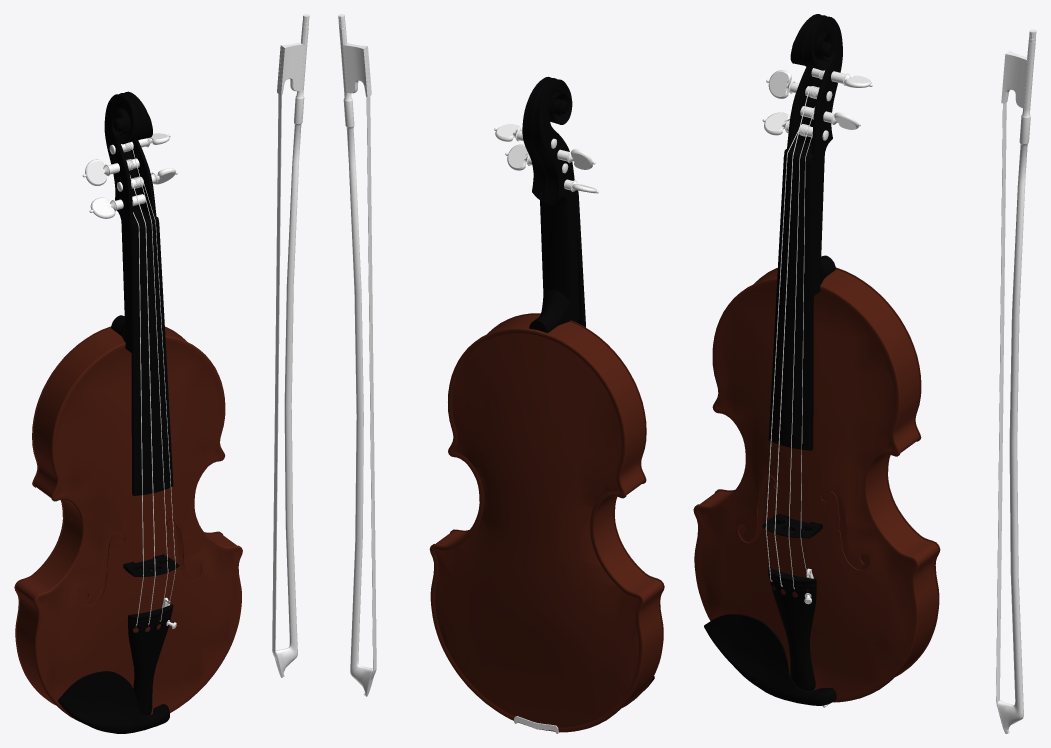
Rendered from violinNbow.fbx.
The picture shows the model from 3 angles, left to right: view 1: azimuth 30°, elevation 25°; view 2: azimuth 150°, elevation 25°; view 3: azimuth 330°, elevation 25°; orthographic projection. The views are drawn at different scales.
Parts seen in each view (by area): view 1: violin_body, violinrestbody, violinbowSAMEmaterial, violintinypiecesSAMEmaterial; view 2: violin_body, violinrestbody, violinbowSAMEmaterial, violintinypiecesSAMEmaterial; view 3: violin_body, violinrestbody, violinbowSAMEmaterial, violintinypiecesSAMEmaterial.
Boxes of the visible parts, x1,y1,x2,y2 form: violin_body: (14,326,242,721); violinrestbody: (58,91,179,733); violinbowSAMEmaterial: (272,14,309,677); violintinypiecesSAMEmaterial: (82,133,177,628); violin_body: (429,313,664,732); violinrestbody: (522,76,654,690); violinbowSAMEmaterial: (338,14,376,696); violintinypiecesSAMEmaterial: (494,124,598,733); violin_body: (693,267,940,702); violinrestbody: (704,14,842,705); violinbowSAMEmaterial: (996,29,1036,733); violintinypiecesSAMEmaterial: (762,68,872,707).
Bounding box in the file's own units: 72.13 × 153 × 20.53.
